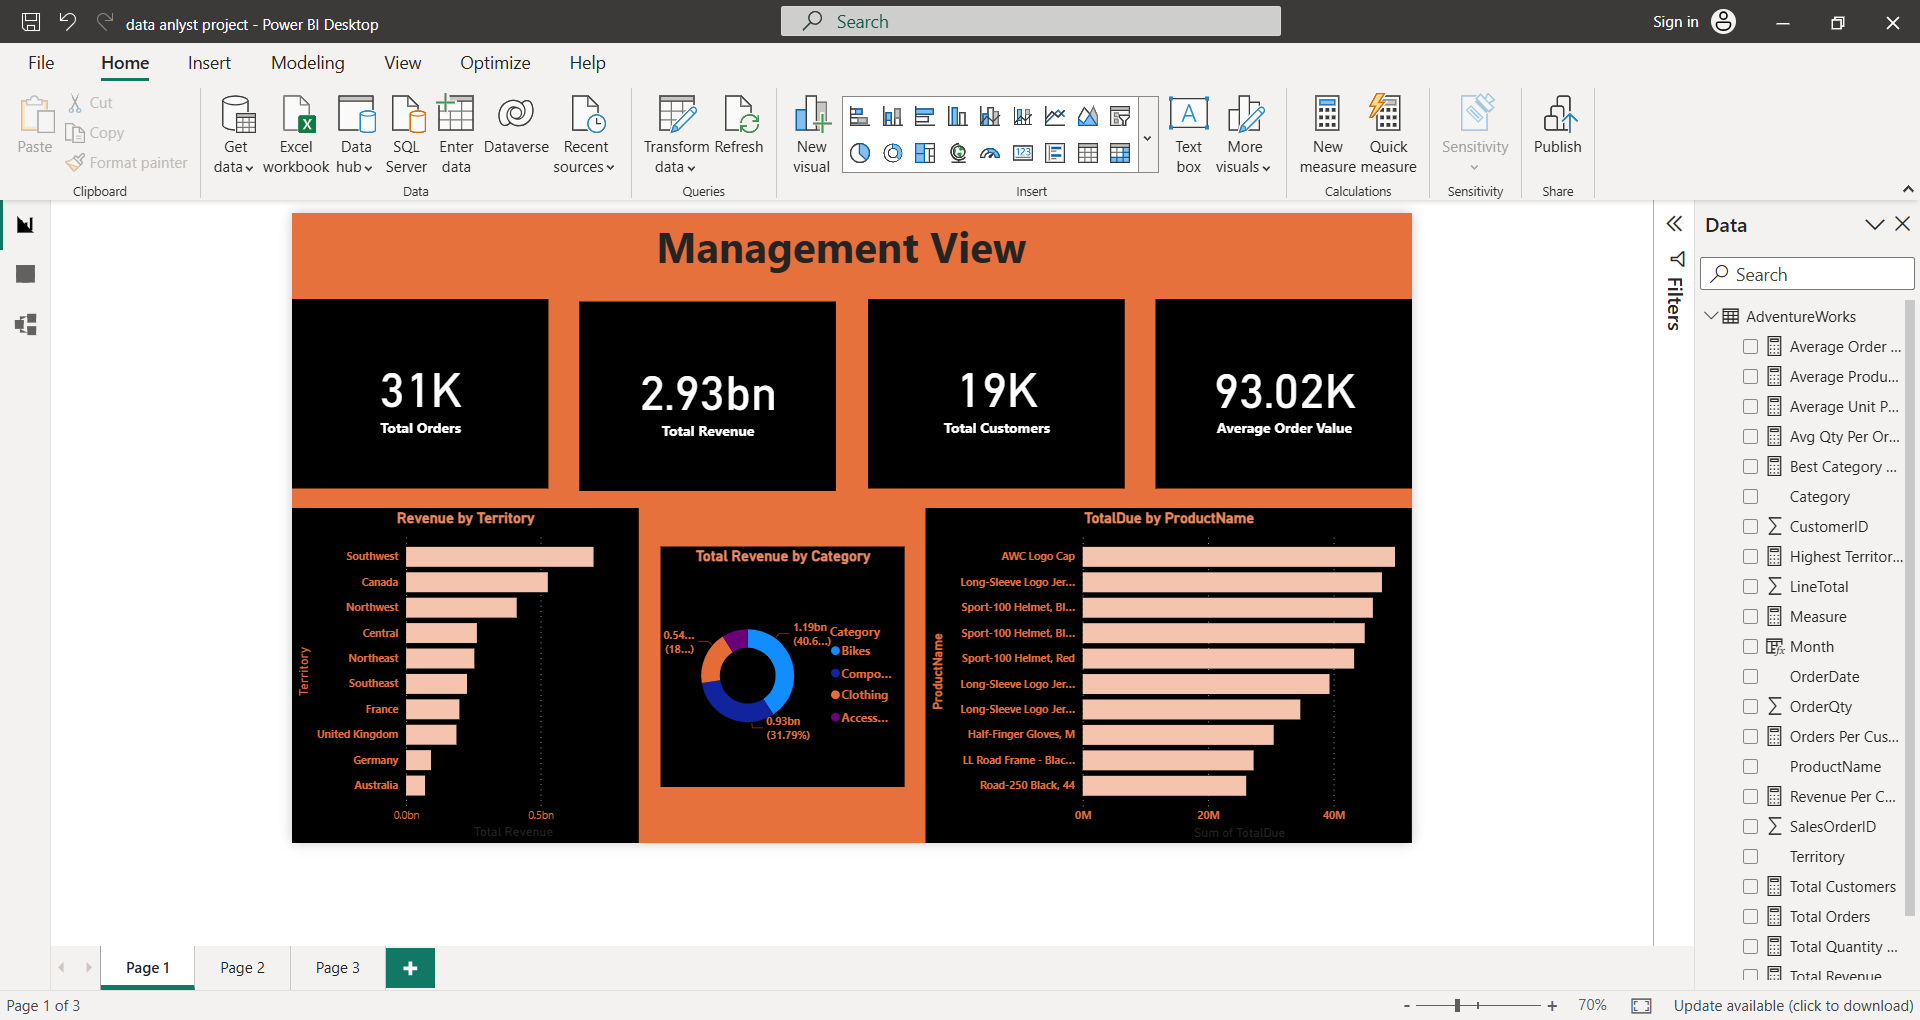

This screenshot's page, from the dashboard's own definition file:
{"tool":"powerbi","page":{"name":"Page 1","canvas":[1280,720],"ordinal":0},"visuals":[{"type":"card","fields":{"Values":["AdventureWorks.Total Orders"]},"box":[0,98.6,292.9,215.7],"z":0},{"type":"card","fields":{"Values":["AdventureWorks.Total Customers"]},"box":[658.1,98.6,292.9,215.7],"z":1000},{"type":"card","fields":{"Values":["AdventureWorks.Average Order Value"]},"box":[987.1,98,292.9,216],"z":2000},{"type":"clusteredBarChart","title":"Revenue by Territory","fields":{"Category":["AdventureWorks.Territory"],"Y":["AdventureWorks.Total Revenue"]},"box":[0,337.1,395.7,382.9],"z":3000},{"type":"donutChart","fields":{"Category":["AdventureWorks.Category"],"Y":["AdventureWorks.Total Revenue"]},"box":[421.3,381.4,278.6,274.3],"z":4000},{"type":"barChart","title":"TotalDue by ProductName","fields":{"Y":["Sum(AdventureWorks.TotalDue)"],"Category":["AdventureWorks.ProductName"]},"box":[724.8,337,555.2,383.2],"z":5000},{"type":"card","fields":{"Values":["AdventureWorks.Total Revenue"]},"box":[329,101.4,292.9,215.7],"z":6000},{"type":"textbox","box":[100,0,1055.7,78.6],"z":7000}]}

Visuals, with their boxes on the page's 1280x720 design canvas (x1, y1, x2, y2). These are canvas units, not pixel positions in the 1920x1020 screenshot, which may show the page scaled, cropped or inside an application window:
card - AdventureWorks.Total Orders: pyautogui.locateOnScreen(0, 99, 293, 314)
card - AdventureWorks.Total Customers: pyautogui.locateOnScreen(658, 99, 951, 314)
card - AdventureWorks.Average Order Value: pyautogui.locateOnScreen(987, 98, 1280, 314)
"Revenue by Territory" clusteredBarChart: pyautogui.locateOnScreen(0, 337, 396, 720)
donutChart - AdventureWorks.Category x AdventureWorks.Total Revenue: pyautogui.locateOnScreen(421, 381, 700, 656)
"TotalDue by ProductName" barChart: pyautogui.locateOnScreen(725, 337, 1280, 720)
card - AdventureWorks.Total Revenue: pyautogui.locateOnScreen(329, 101, 622, 317)
textbox: pyautogui.locateOnScreen(100, 0, 1156, 79)
